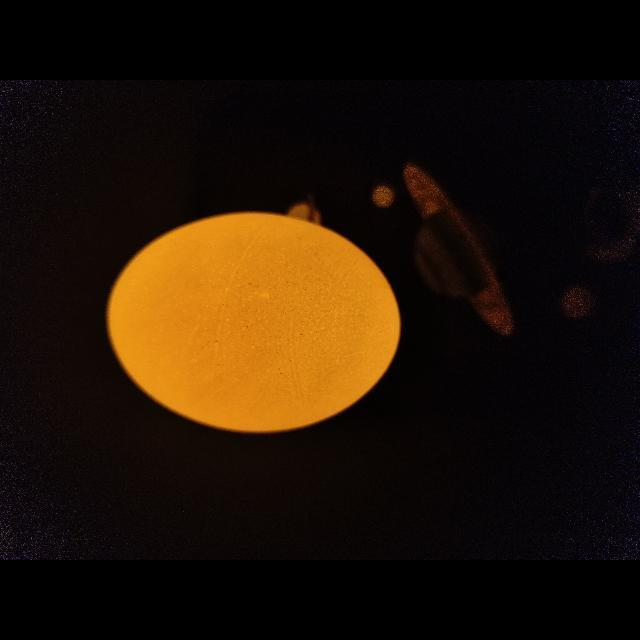AA - Premium: (108, 213, 400, 433)
